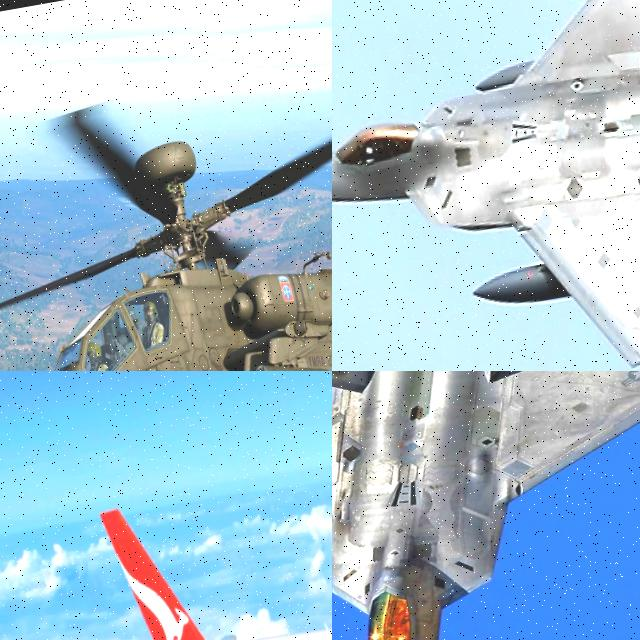A380: (0, 439, 332, 640)
Apache: (0, 0, 332, 371)
F22: (332, 0, 640, 371), (332, 371, 640, 640)
